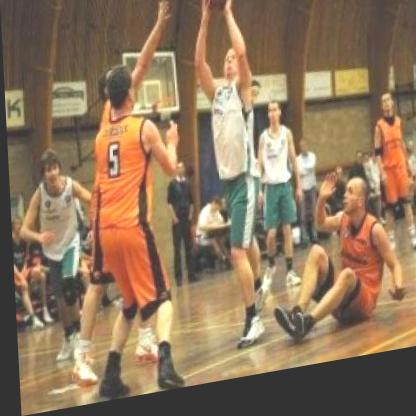basketball: (196, 0, 234, 20)
